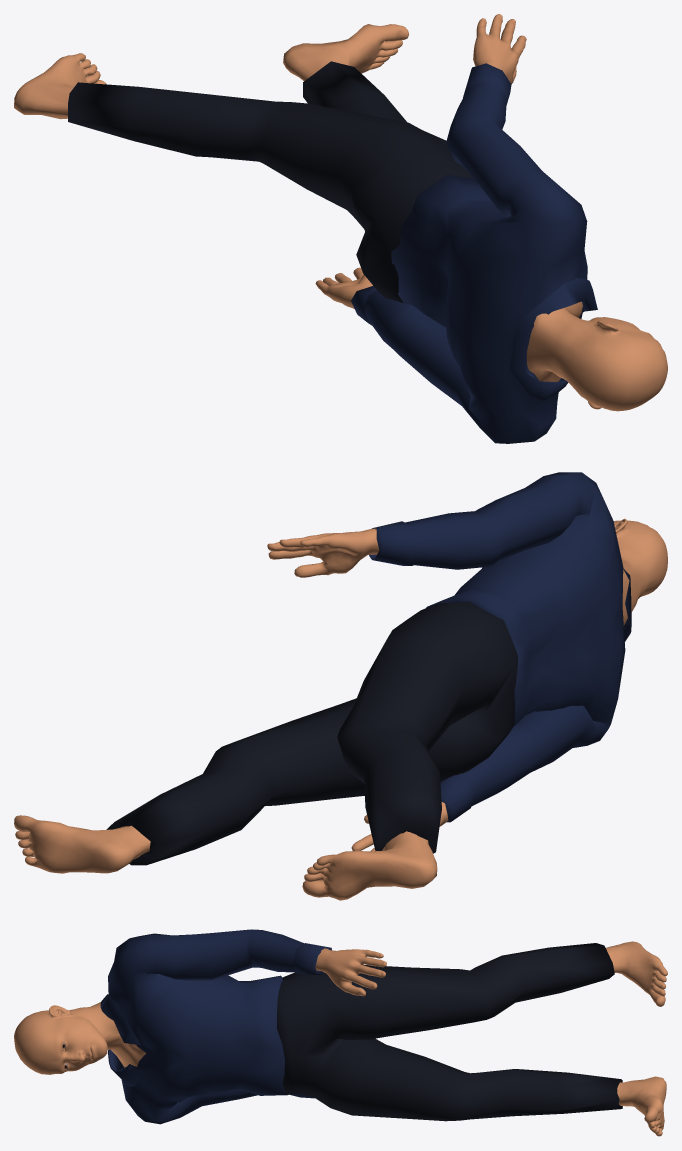
Rendered from walk.obj.
3 views of the same model, one above another, from view 1: azimuth 30°, elevation 25°; view 2: azimuth 150°, elevation 25°; view 3: azimuth 270°, elevation 25° (orthographic). The views are drawn at different scales.
Bounding box in the file's own units: 0.8747 × 0.5838 × 1.66.
